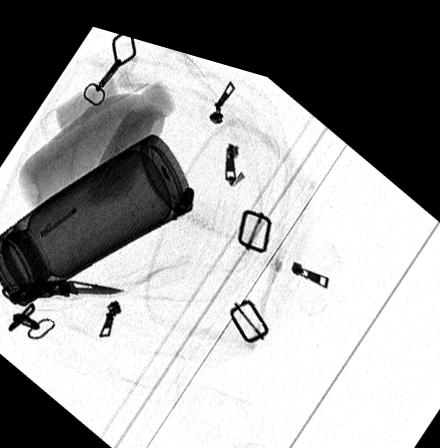Knife: (1, 274, 126, 305)
